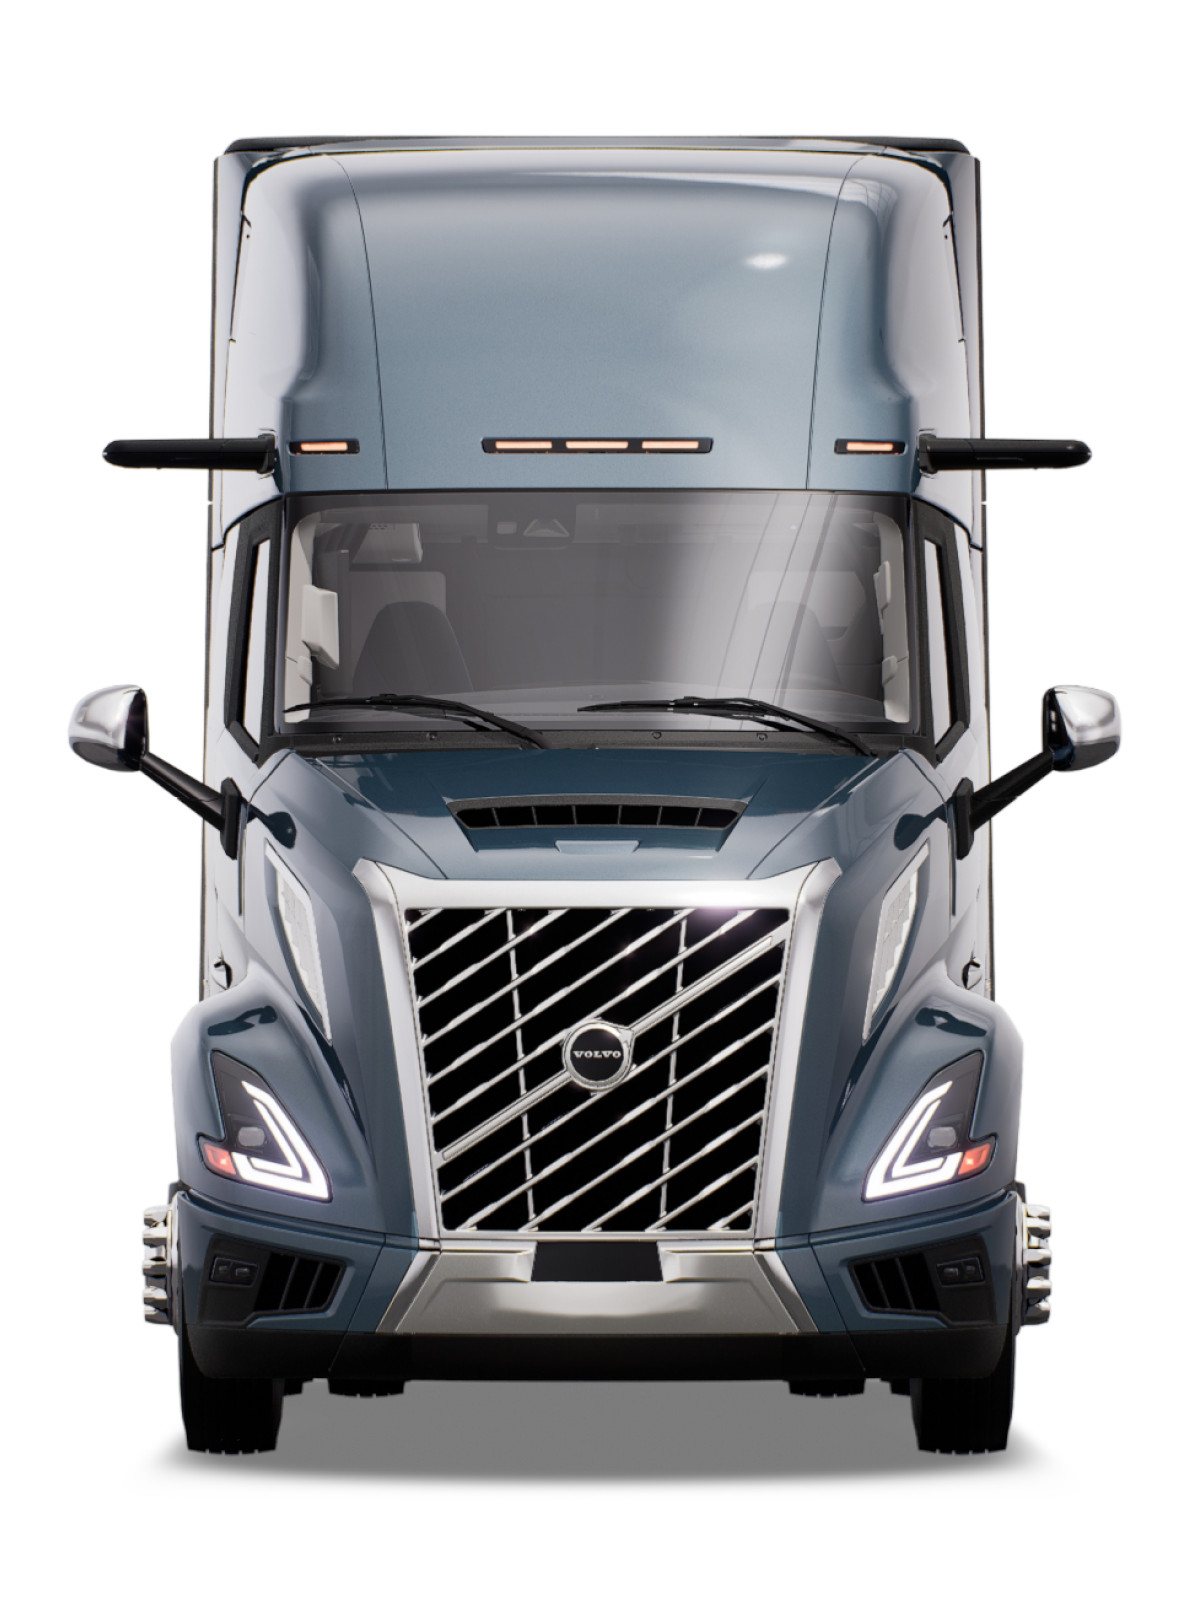truck: (62, 130, 1126, 1458)
